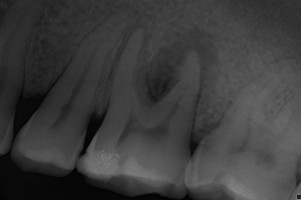Dental Caries: (145, 28, 218, 103)
